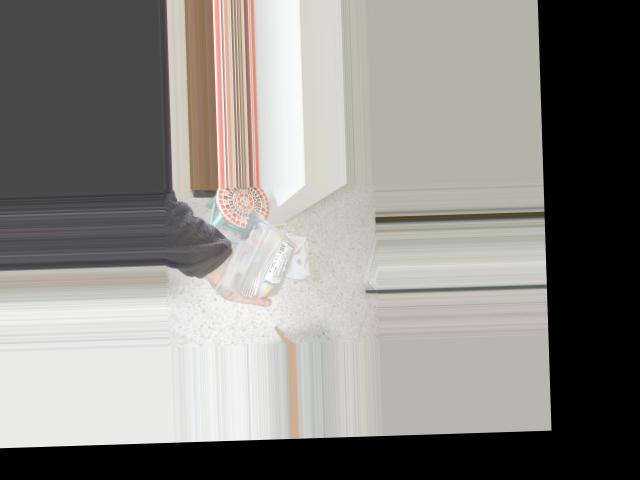cheese: (226, 239, 318, 281)
